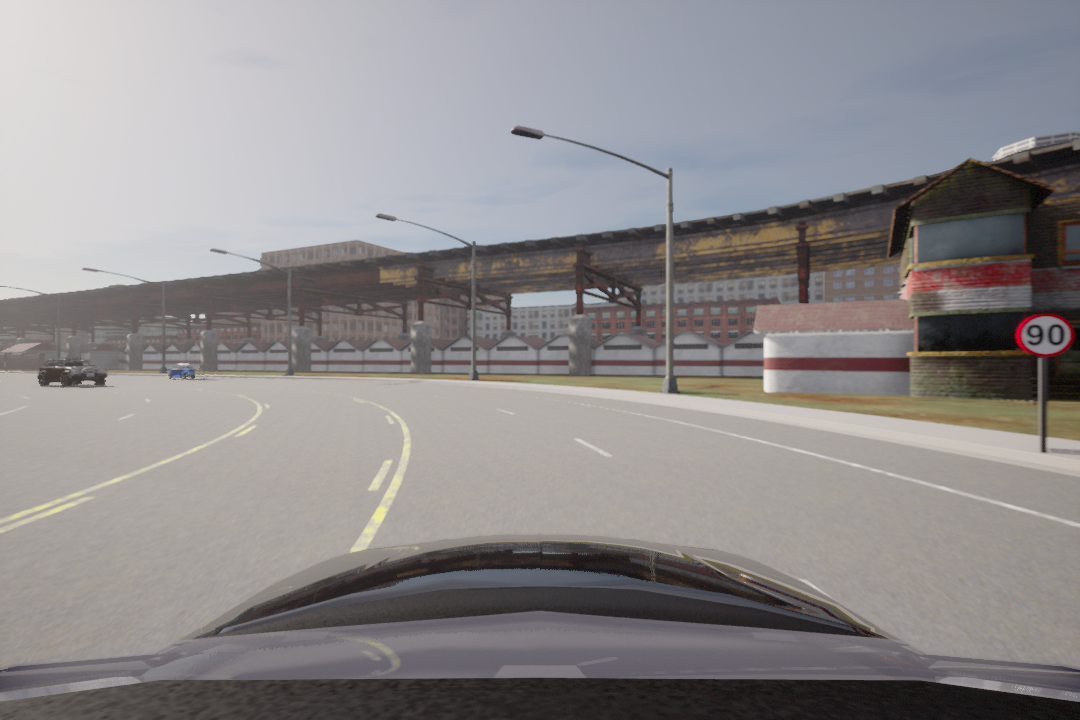TrafficSign_speed: (1016, 314, 1074, 357)
